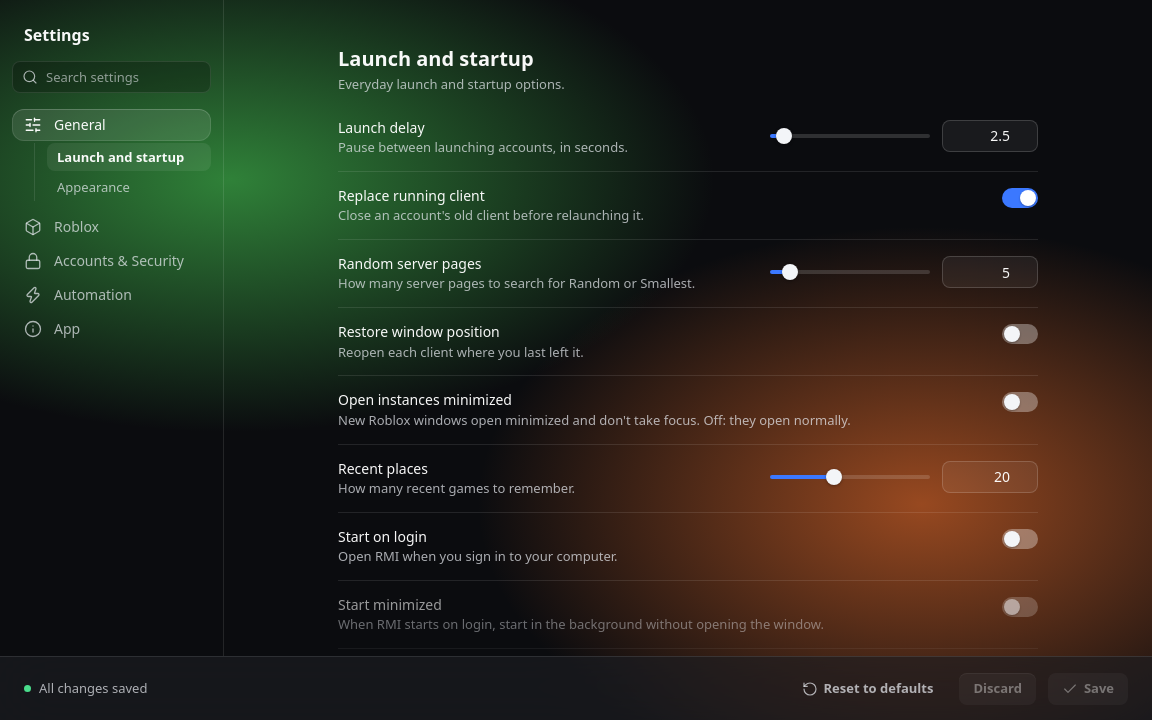
Test case: reset to defaults leaves sections this OS hides alone
Click the button "Reset to defaults" at x=867, y=688, box [788,672,947,704]
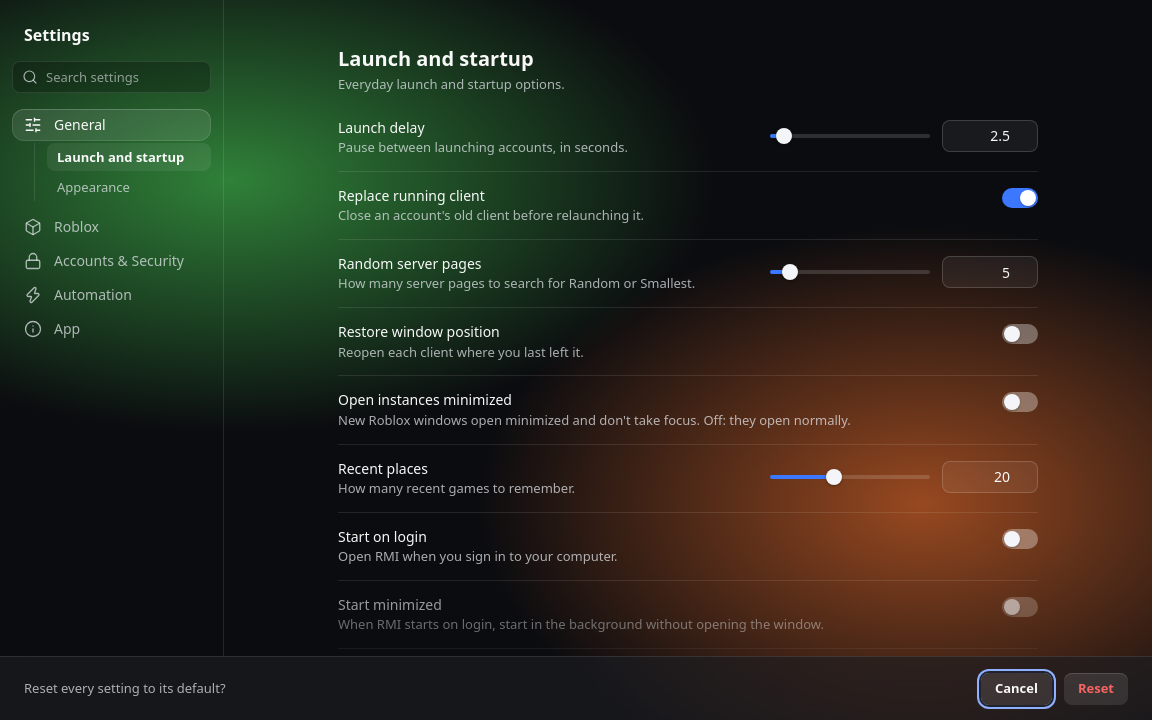
Click the button "Reset" at x=1096, y=688, box [1064,672,1128,704]
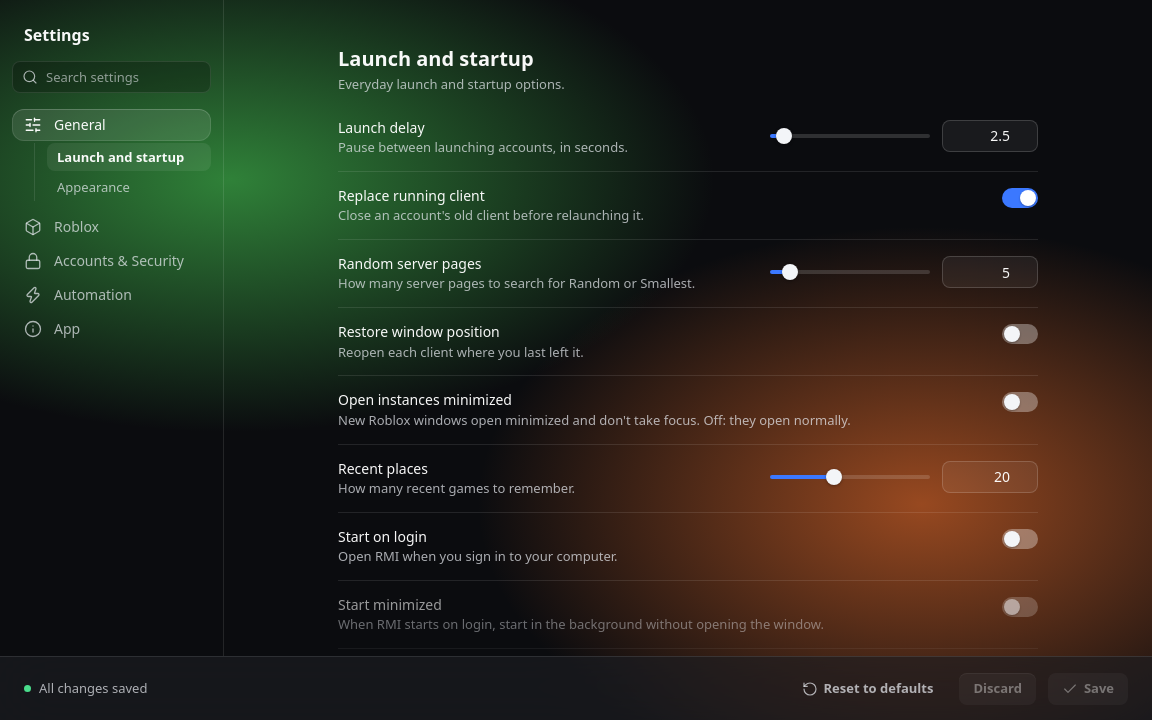
Now the text "All changes saved" is shown, box [24,679,147,698]
